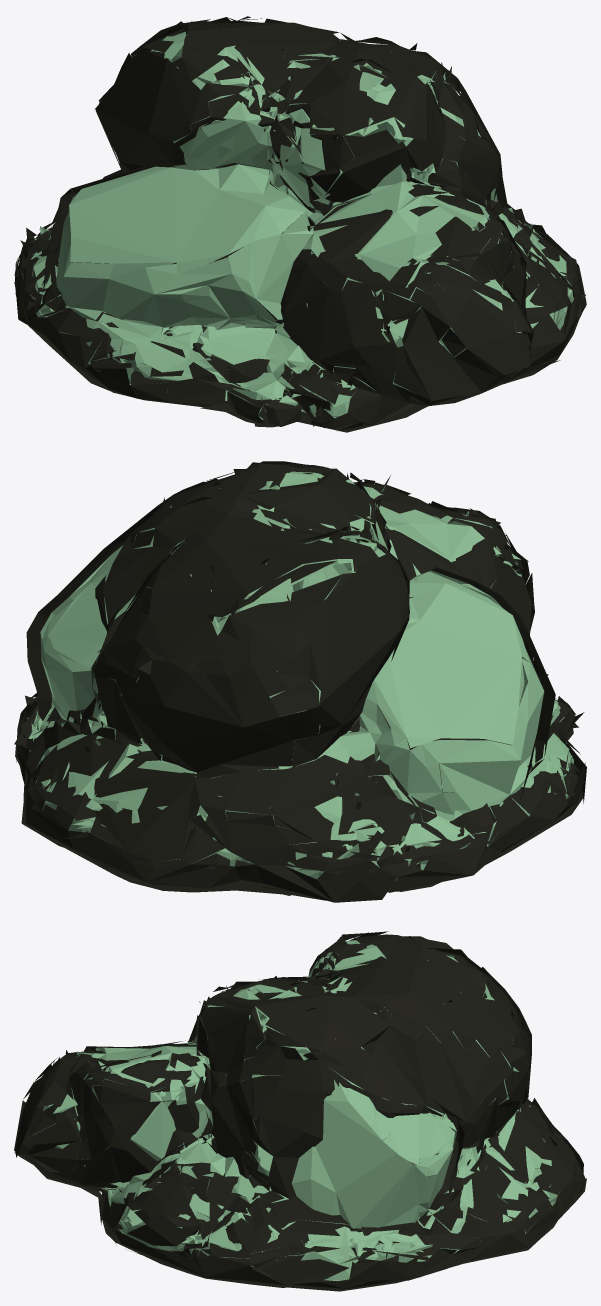
Rendered from df_v2_rock_moss_cluster_c_a.glb.
3 renders of one model, top to bottom at view 1: azimuth 30°, elevation 25°; view 2: azimuth 150°, elevation 25°; view 3: azimuth 270°, elevation 25°, orthographic. The views are drawn at different scales.
Parts seen in each view (by area): view 1: rock_moss_cluster_c_mesh_01_ink_outline, rock_moss_cluster_c_mesh_01; view 2: rock_moss_cluster_c_mesh_01_ink_outline, rock_moss_cluster_c_mesh_01; view 3: rock_moss_cluster_c_mesh_01_ink_outline, rock_moss_cluster_c_mesh_01.
Boxes of the visible parts, bbox=[...] form: rock_moss_cluster_c_mesh_01_ink_outline: bbox=[14, 16, 586, 432]; rock_moss_cluster_c_mesh_01: bbox=[30, 27, 573, 420]; rock_moss_cluster_c_mesh_01_ink_outline: bbox=[14, 461, 586, 902]; rock_moss_cluster_c_mesh_01: bbox=[28, 471, 573, 880]; rock_moss_cluster_c_mesh_01_ink_outline: bbox=[14, 931, 586, 1291]; rock_moss_cluster_c_mesh_01: bbox=[33, 940, 559, 1281].
Size of the model in its own units: 0.7178 by 0.3734 by 0.8393.
